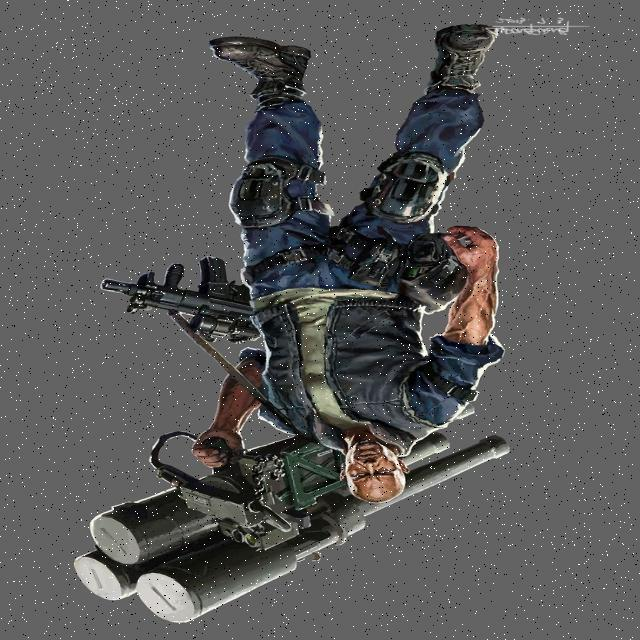bazooka: (68, 422, 530, 626)
